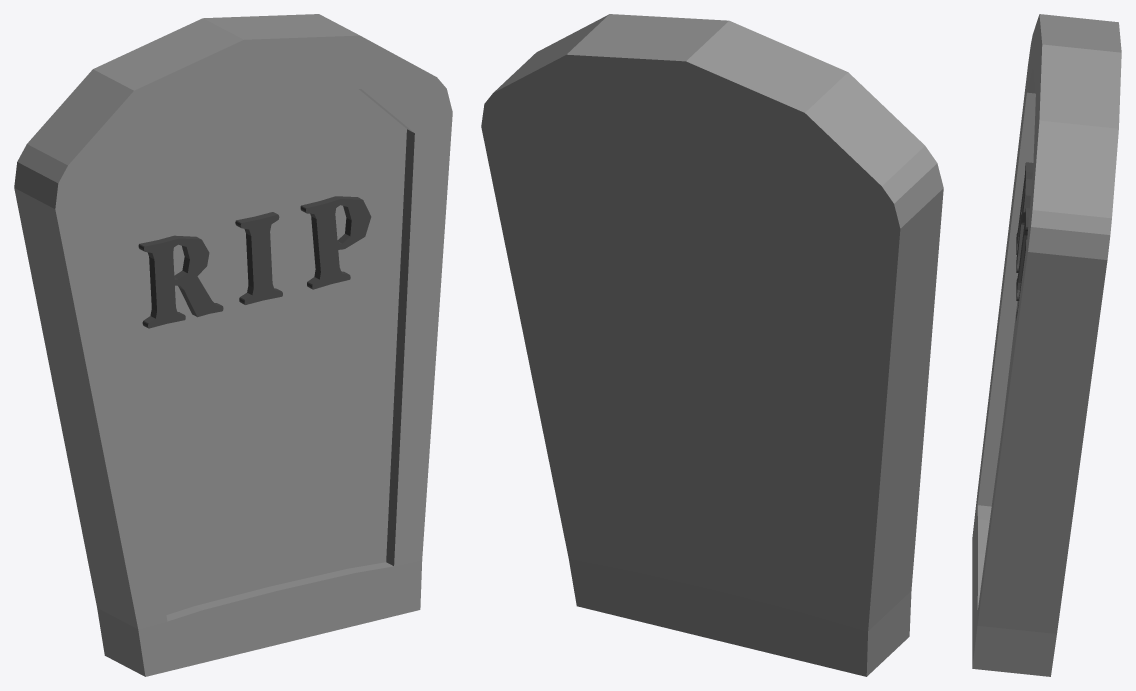
The model's file is Tombstone_1.fbx.
3 renders of one model, left to right at view 1: azimuth 30°, elevation 25°; view 2: azimuth 150°, elevation 25°; view 3: azimuth 270°, elevation 25°, orthographic. The views are drawn at different scales.
Visible parts, largest first — view 1: Tombstone_1; view 2: Tombstone_1; view 3: Tombstone_1.
Boxes of the visible parts, x1=… form: Tombstone_1: x1=14, y1=14, x2=452, y2=676; Tombstone_1: x1=481, y1=14, x2=943, y2=676; Tombstone_1: x1=972, y1=14, x2=1121, y2=676.
Bounding box in the file's own units: 153 × 51.72 × 216.
